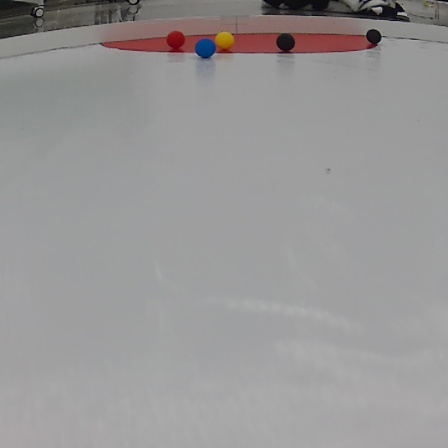black: (272, 30, 298, 54), (366, 26, 383, 46)
blue: (194, 37, 218, 62)
red: (164, 30, 187, 52)
red_base: (100, 30, 397, 56)
yellow: (213, 31, 237, 48)
